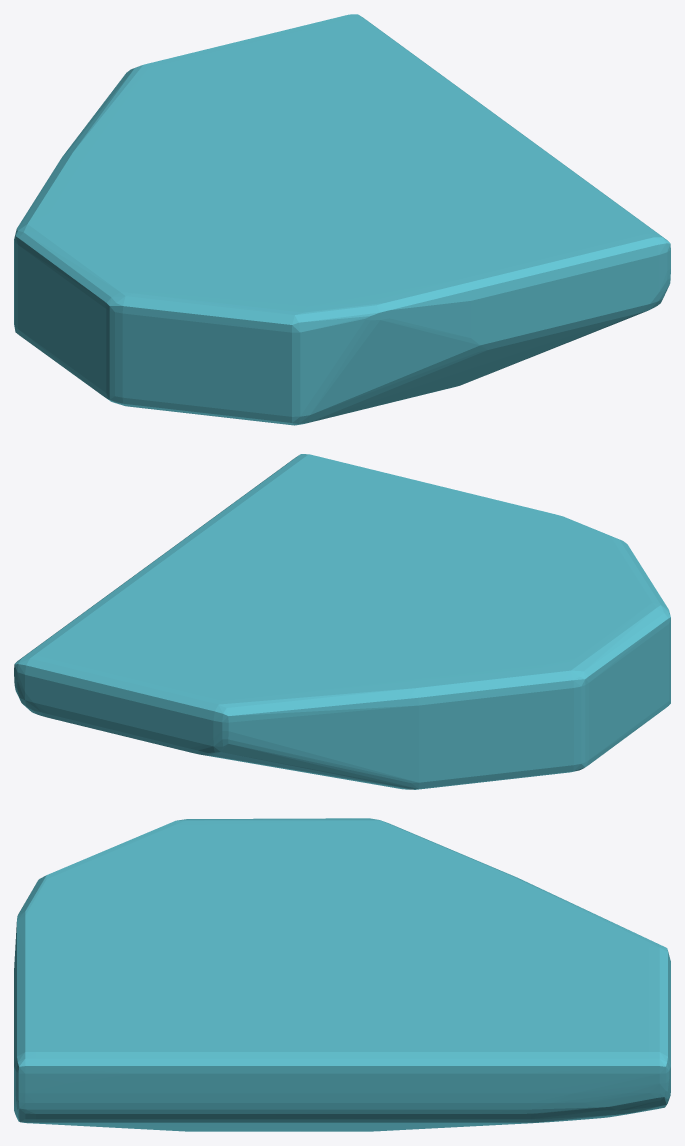
Rendered from right_knee_link_part_2.obj.
3 renders of one model, top to bottom at view 1: azimuth 30°, elevation 25°; view 2: azimuth 150°, elevation 25°; view 3: azimuth 270°, elevation 25°, orthographic. The views are drawn at different scales.
Bounding box in the file's own units: 0.1045 × 0.023 × 0.1176.
